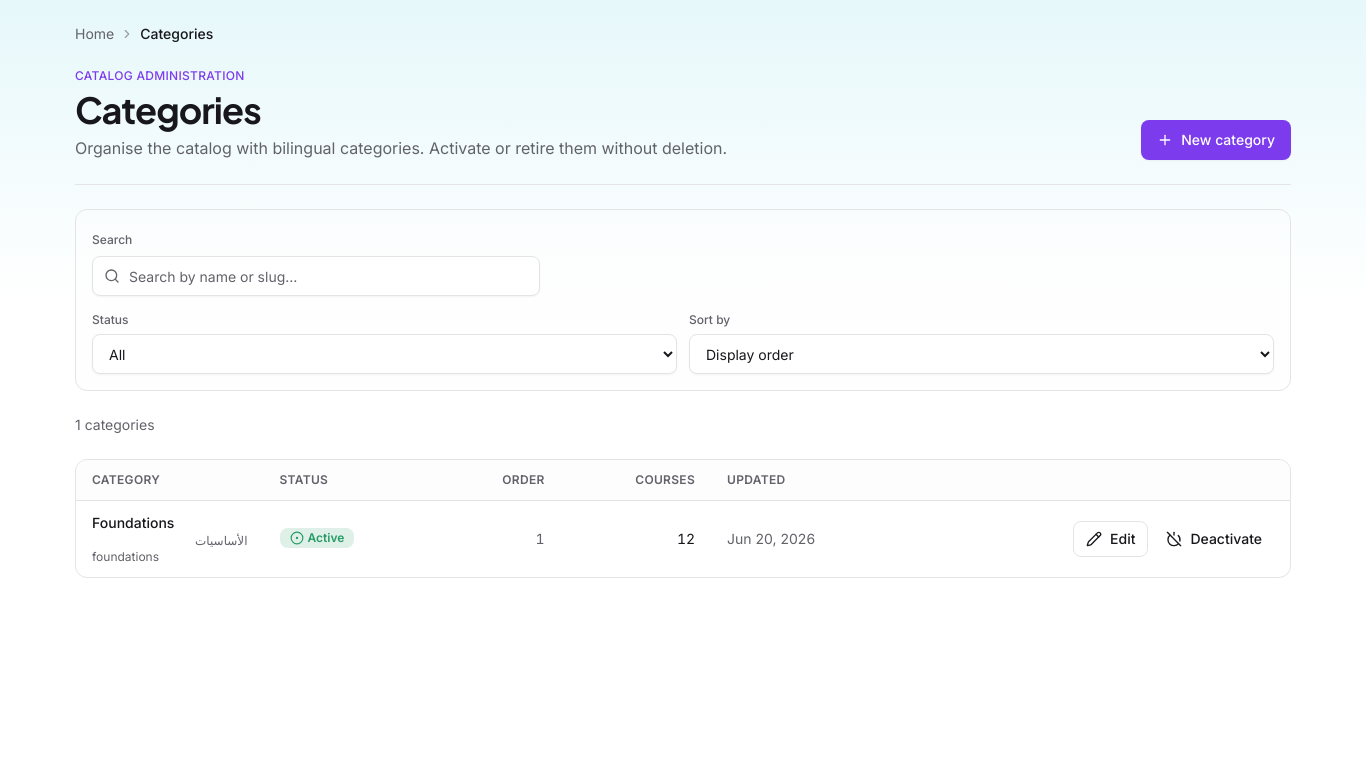
CategoriesListView › opens the create dialog and submits a new category
The image size is (1366, 768).
Click the button "New category" at (1216, 140), box [1141,120,1291,160]
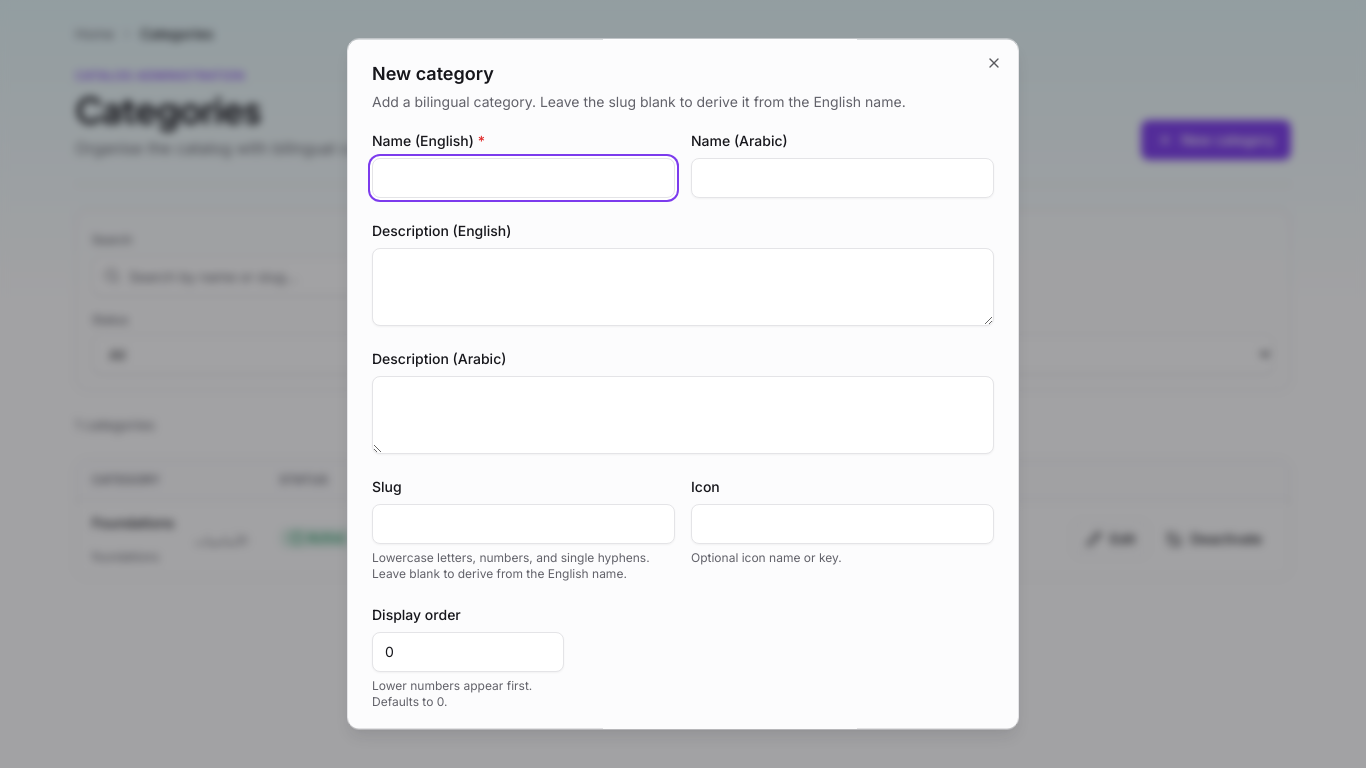
Type "Robotics" into the field labelled "Name (English)*" at (524, 178), box [372,158,675,198]
(page scrolled)
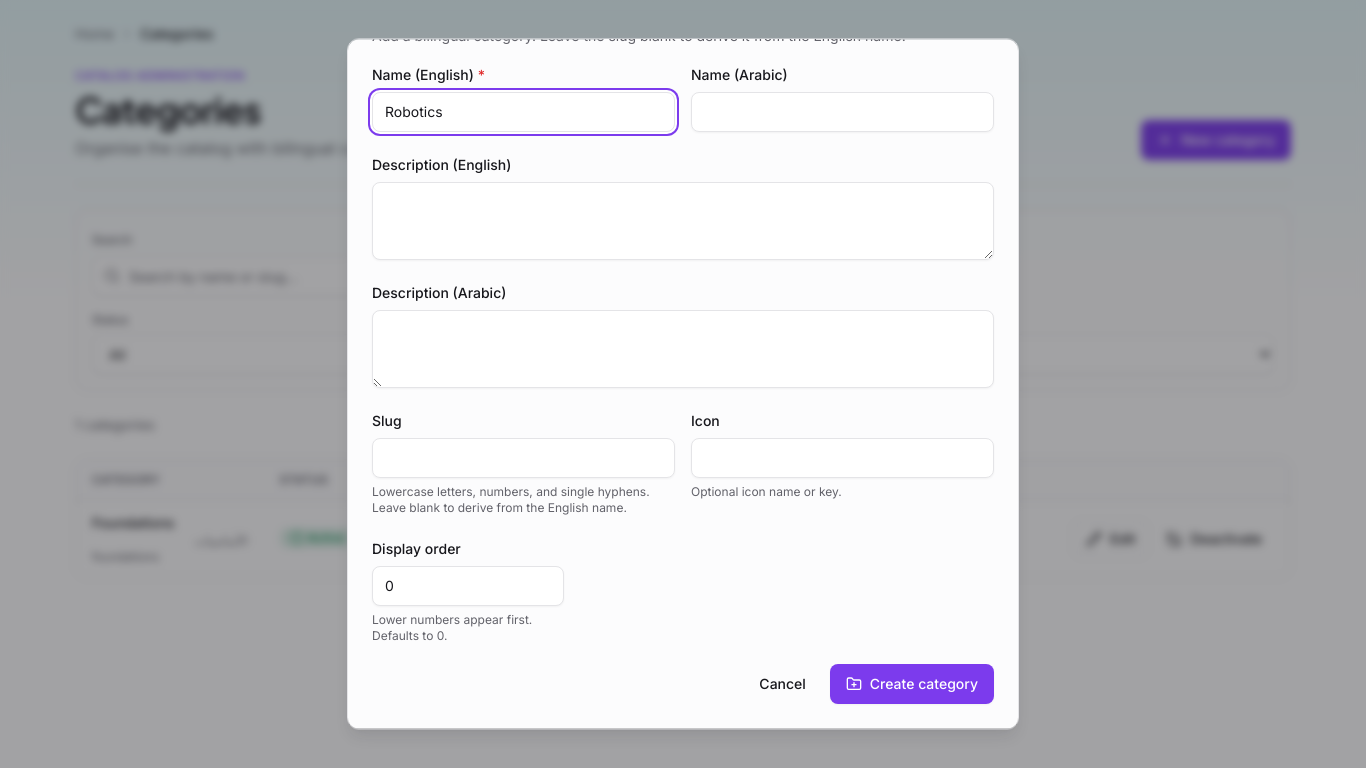
Click the button "Create category" at (912, 684), box [830,664,994,704]
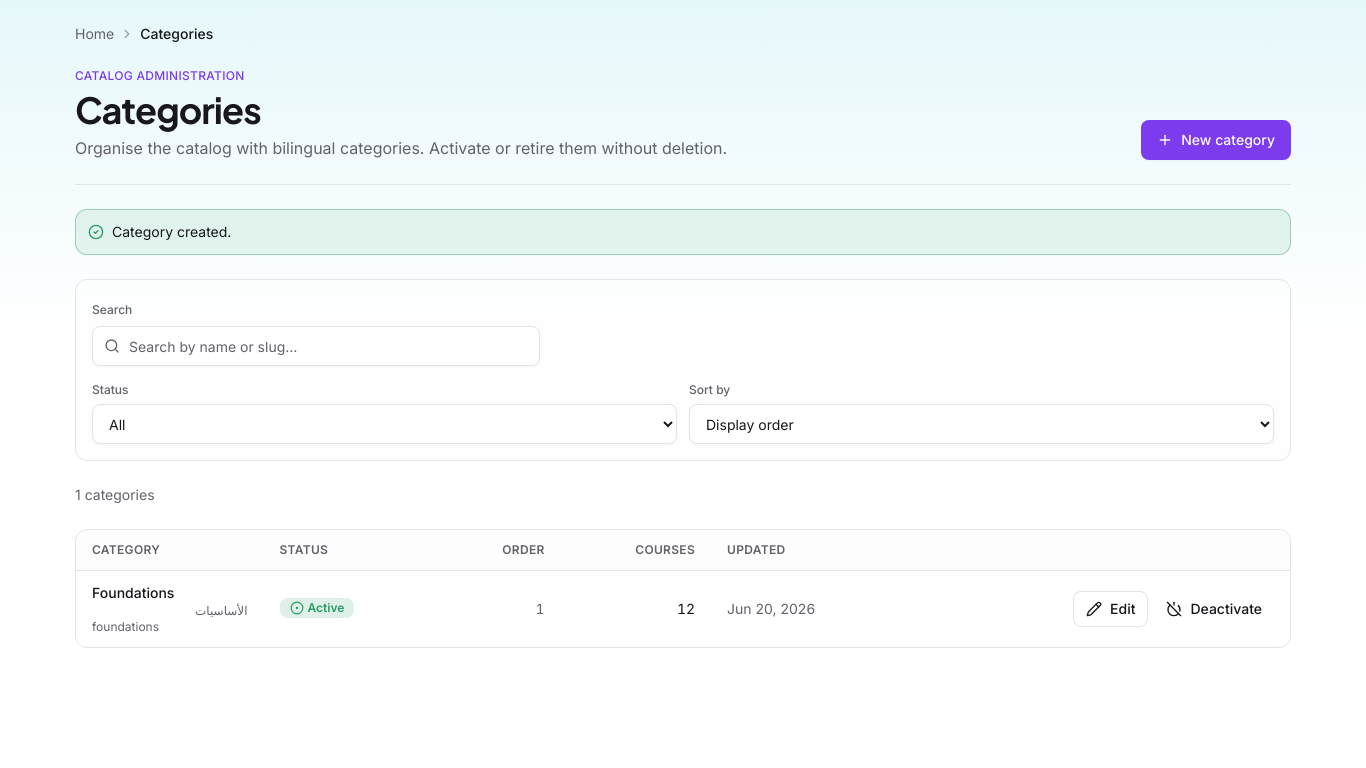
expect the text "Category created." is shown: met, box [75,209,1291,255]
